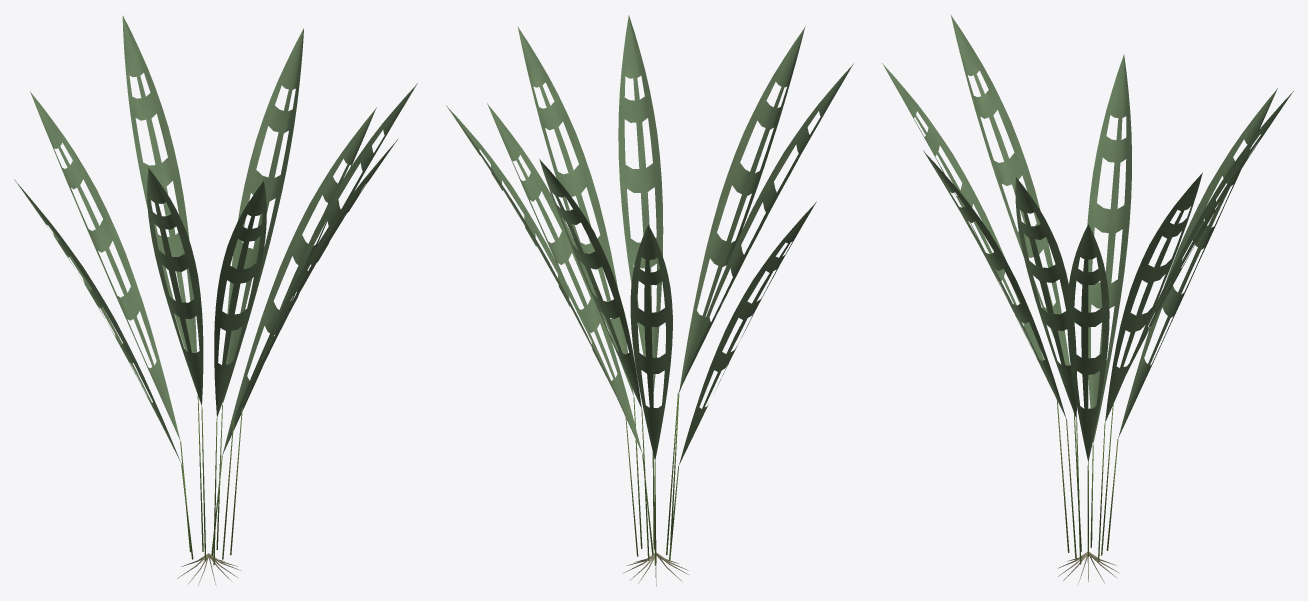
The model's file is aponogeton-mobile.glb.
3 views of the same model, side by side, from view 1: azimuth 30°, elevation 25°; view 2: azimuth 150°, elevation 25°; view 3: azimuth 270°, elevation 25° (orthographic).
Parts seen in each view (by area): view 1: blade, petiole; view 2: blade, petiole; view 3: blade, petiole.
Part boxes in pixels (x1=…): blade: x1=14, y1=15, x2=417, y2=463; petiole: x1=180, y1=395, x2=242, y2=565; blade: x1=446, y1=15, x2=853, y2=465; petiole: x1=625, y1=393, x2=679, y2=565; blade: x1=882, y1=14, x2=1293, y2=461; petiole: x1=1057, y1=400, x2=1118, y2=564.
Size of the model in its own units: 0.7528 by 1 by 0.7554.
